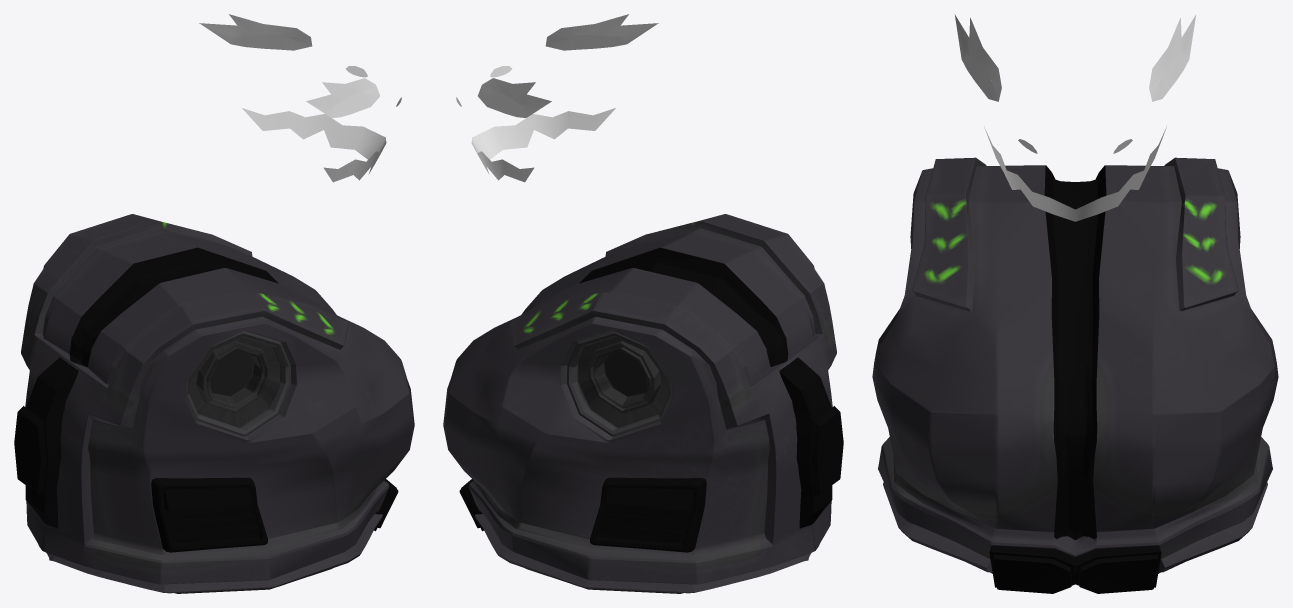
File: AS_DiagF_MOuthE.fbx
3 views of the same model, side by side, from view 1: azimuth 30°, elevation 25°; view 2: azimuth 150°, elevation 25°; view 3: azimuth 270°, elevation 25° (orthographic). The views are drawn at different scales.
Visible parts, largest first — view 1: Chest_armor, Face; view 2: Chest_armor, Face; view 3: Chest_armor, Face.
Boxes of the visible parts, x1=… form: Chest_armor: x1=14, y1=214, x2=414, y2=593; Face: x1=199, y1=14, x2=401, y2=182; Chest_armor: x1=443, y1=214, x2=843, y2=593; Face: x1=456, y1=14, x2=658, y2=182; Chest_armor: x1=872, y1=157, x2=1278, y2=593; Face: x1=955, y1=15, x2=1195, y2=221.
Size of the model in its own units: 30.82 by 26.77 by 38.9.
